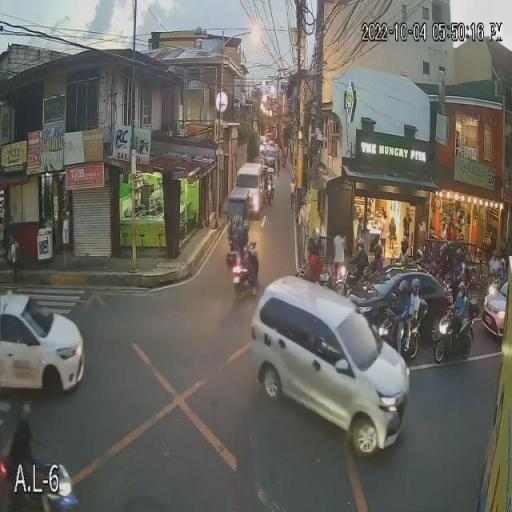helmet: (410, 278, 420, 292), (246, 240, 257, 250), (452, 296, 462, 306)
motorcycle: (0, 449, 82, 512), (386, 296, 428, 362), (432, 303, 475, 365), (317, 263, 360, 298), (228, 248, 257, 297)
rider: (0, 399, 32, 512), (393, 278, 422, 340), (443, 276, 470, 337), (234, 239, 259, 290), (262, 174, 274, 201)
